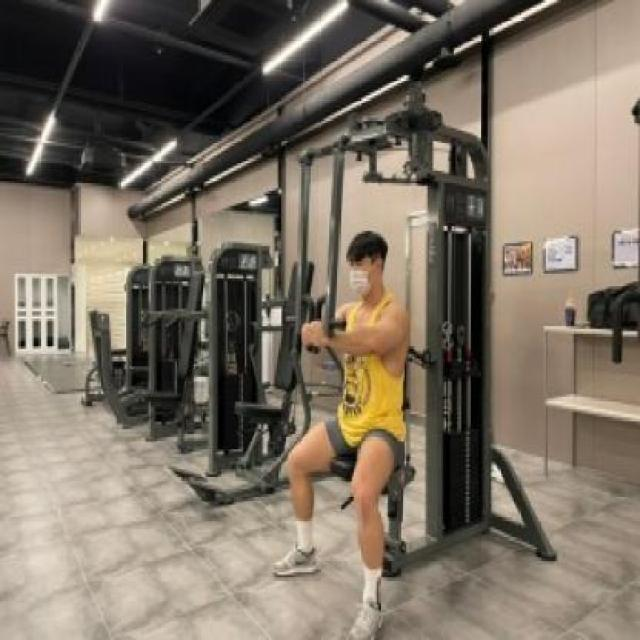chest fly machine: (255, 0, 556, 640)
